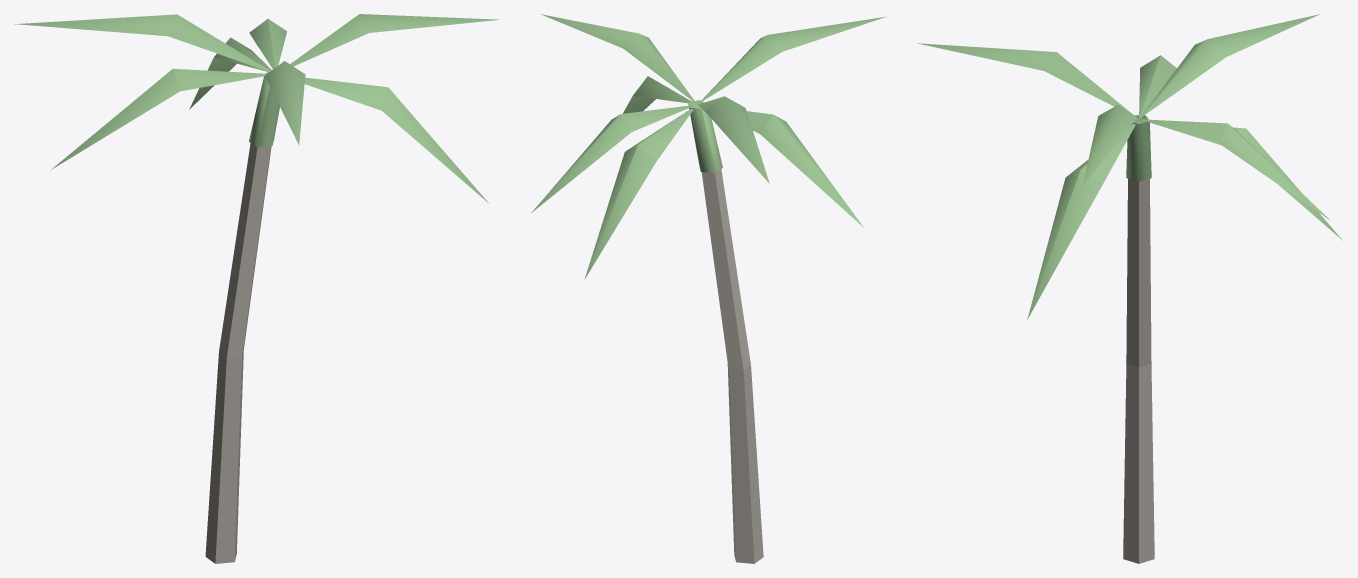
File: tree-palm-c-far.glb
The picture shows the model from 3 angles, left to right: view 1: azimuth 30°, elevation 25°; view 2: azimuth 150°, elevation 25°; view 3: azimuth 270°, elevation 25°; orthographic projection. The views are drawn at different scales.
Parts seen in each view (by area): view 1: tree-palm-c-far; view 2: tree-palm-c-far; view 3: tree-palm-c-far.
Part boxes in pixels (x1,y1,x2,y2): tree-palm-c-far: (14,14,499,563); tree-palm-c-far: (531,14,886,563); tree-palm-c-far: (917,14,1342,563).
Size of the model in its own units: 0.7771 by 0.9712 by 0.7313.
